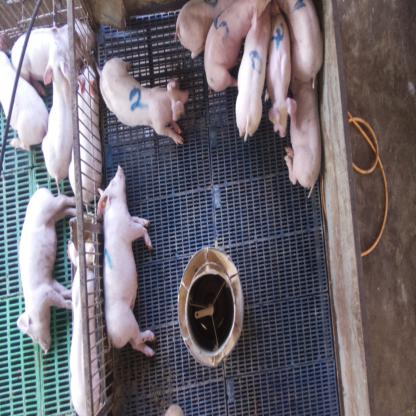2: (129, 86, 150, 116)
5: (213, 12, 229, 41)
7: (269, 21, 286, 49)
N-A: (250, 50, 263, 75)
